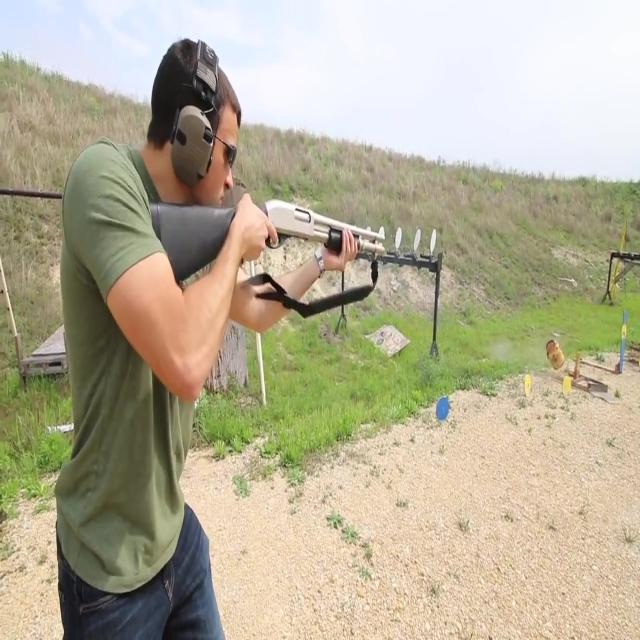Weapon: (133, 172, 444, 348)
